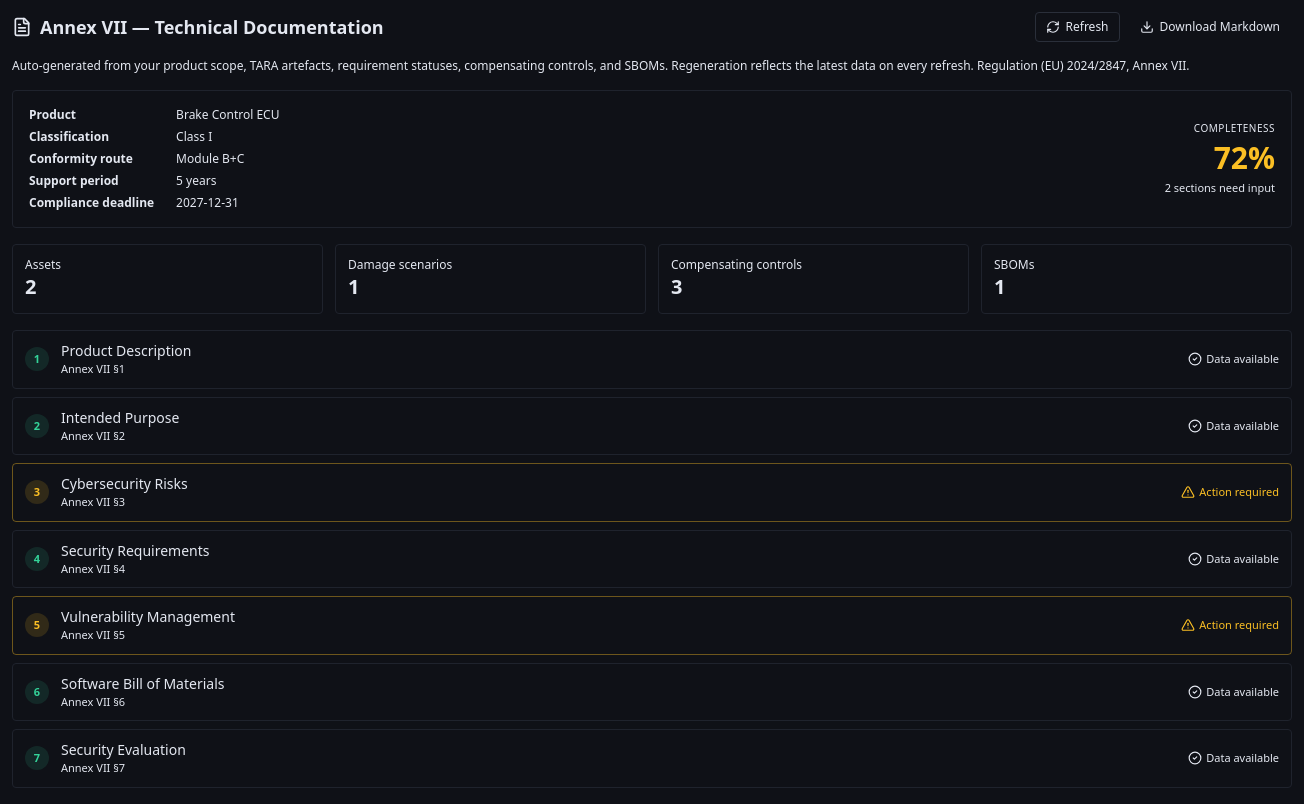
Test: CraAnnexVii › shows "Downloading…" label while the download is in progress
Expected: the text "Brake Control ECU" is shown, [173,106,280,123]
Click the button "Download Markdown" at x=1210, y=27, box [1128,13,1292,41]
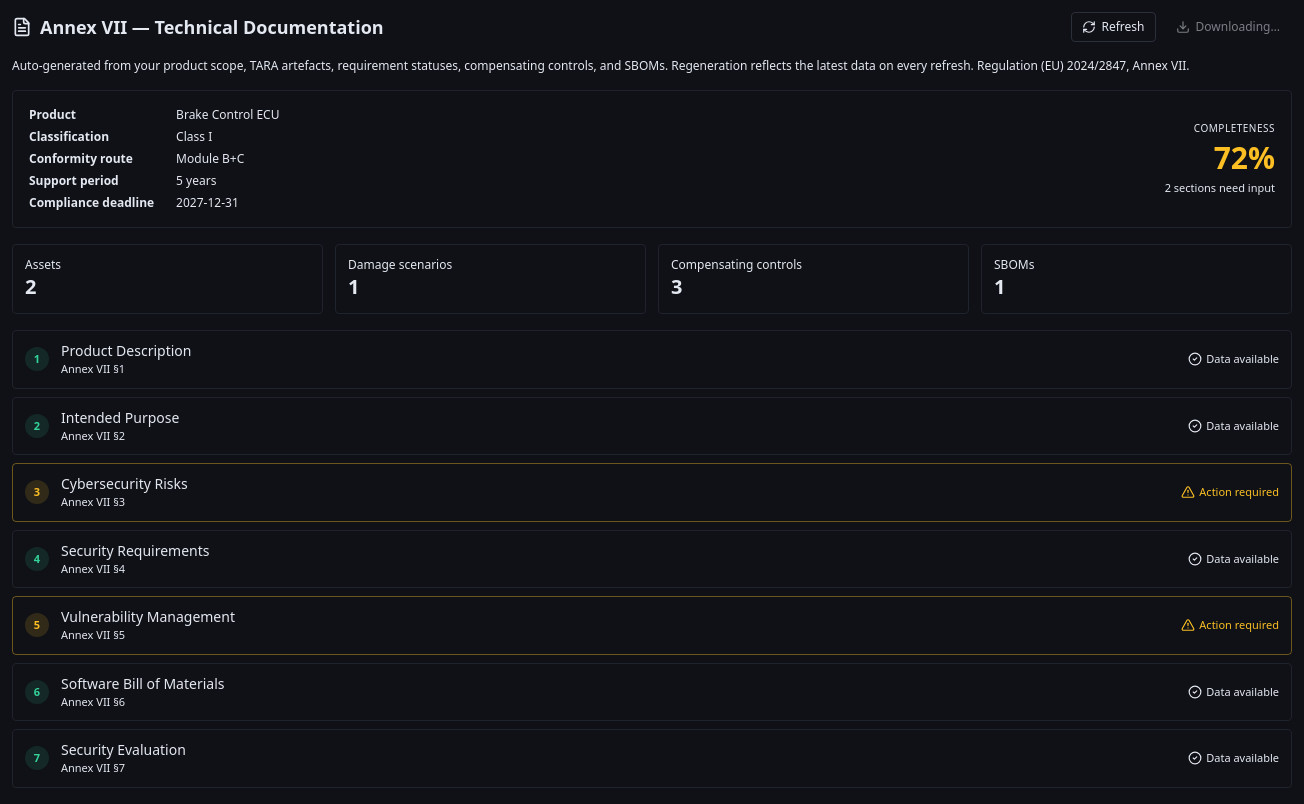
Expected: the button "Downloading…" is shown, [1164,13,1292,41]
